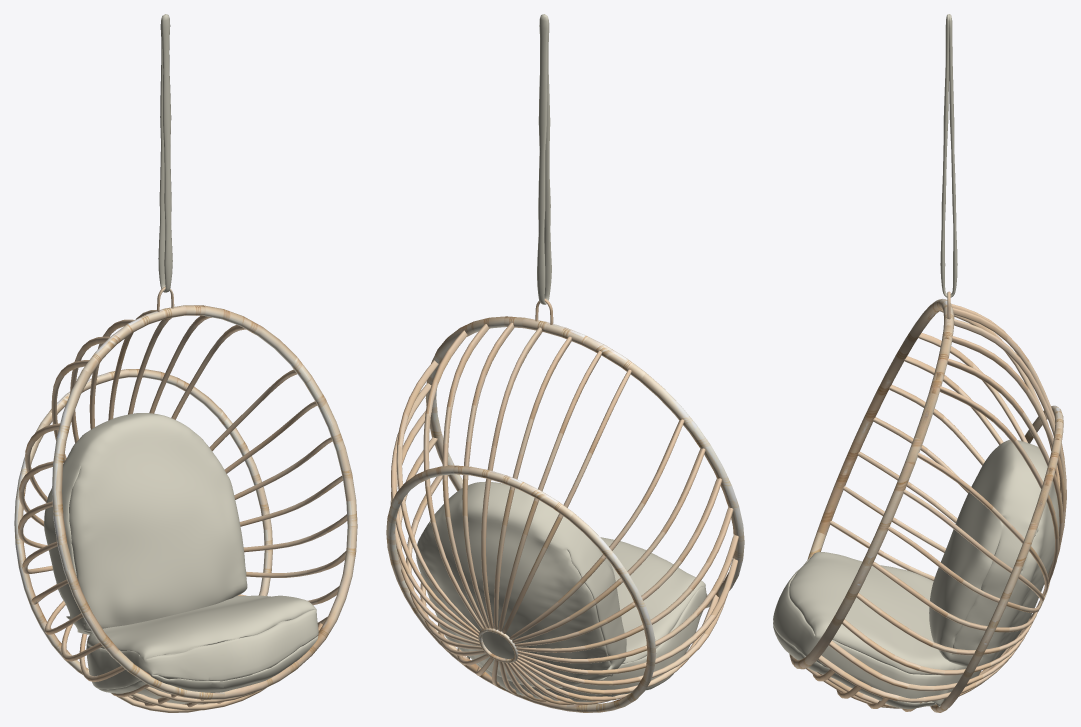
Rendered from eggchair.glb.
3 views of the same model, side by side, from view 1: azimuth 30°, elevation 25°; view 2: azimuth 150°, elevation 25°; view 3: azimuth 270°, elevation 25° (orthographic). The views are drawn at different scales.
Parts seen in each view (by area): view 1: Retopo_F_cloth_panel.001; view 2: Retopo_F_cloth_panel.001; view 3: Retopo_F_cloth_panel.001.
Boxes of the visible parts, left/top/right/bottom form: Retopo_F_cloth_panel.001: left=14, top=14, right=357, bottom=712; Retopo_F_cloth_panel.001: left=386, top=14, right=744, bottom=712; Retopo_F_cloth_panel.001: left=773, top=14, right=1066, bottom=712.
Size of the model in its own units: 1.05 by 2.26 by 0.8805.
Materials: 2 (1 with a texture image).
